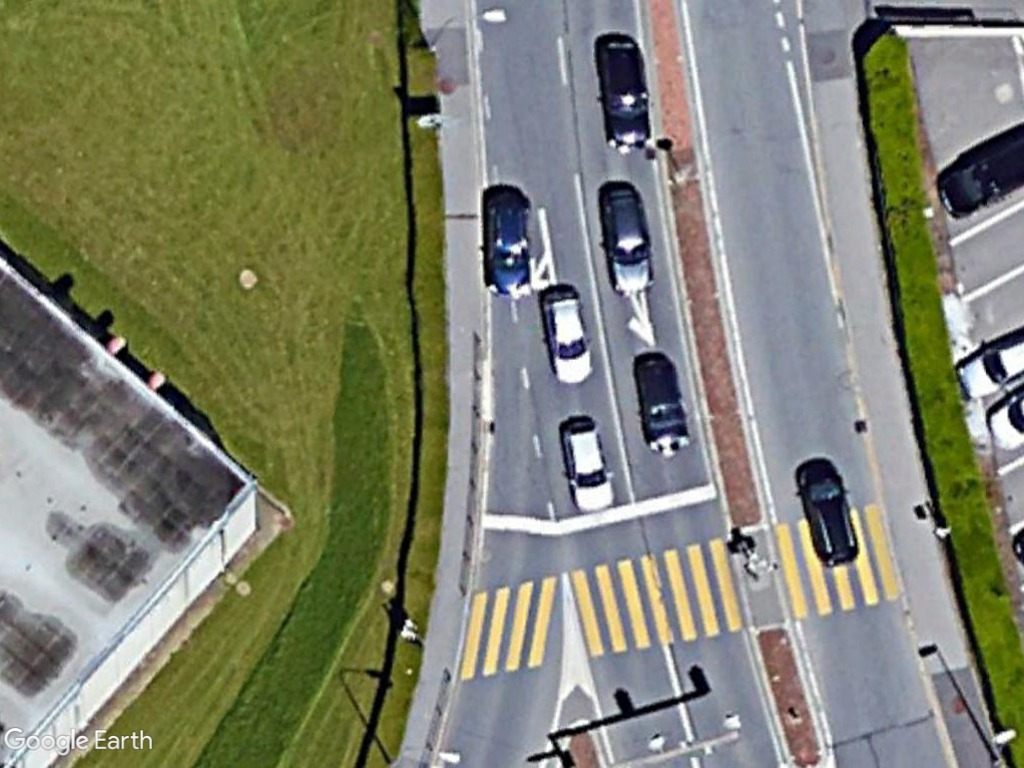car: (790, 457, 866, 569), (593, 33, 654, 156), (596, 185, 655, 299), (536, 284, 596, 390), (558, 420, 617, 515), (487, 192, 534, 304)
